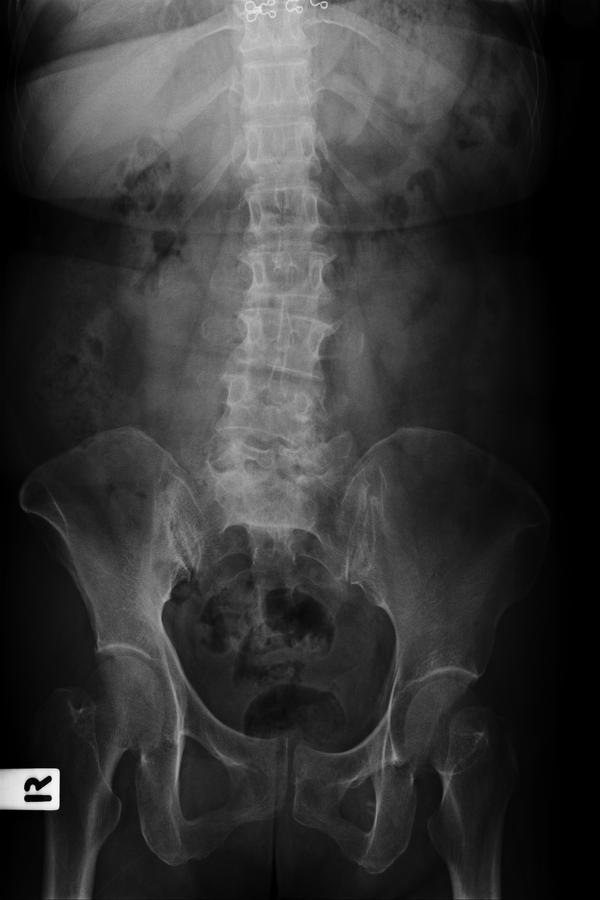lumbar scoliosis: (221, 133, 339, 489)
